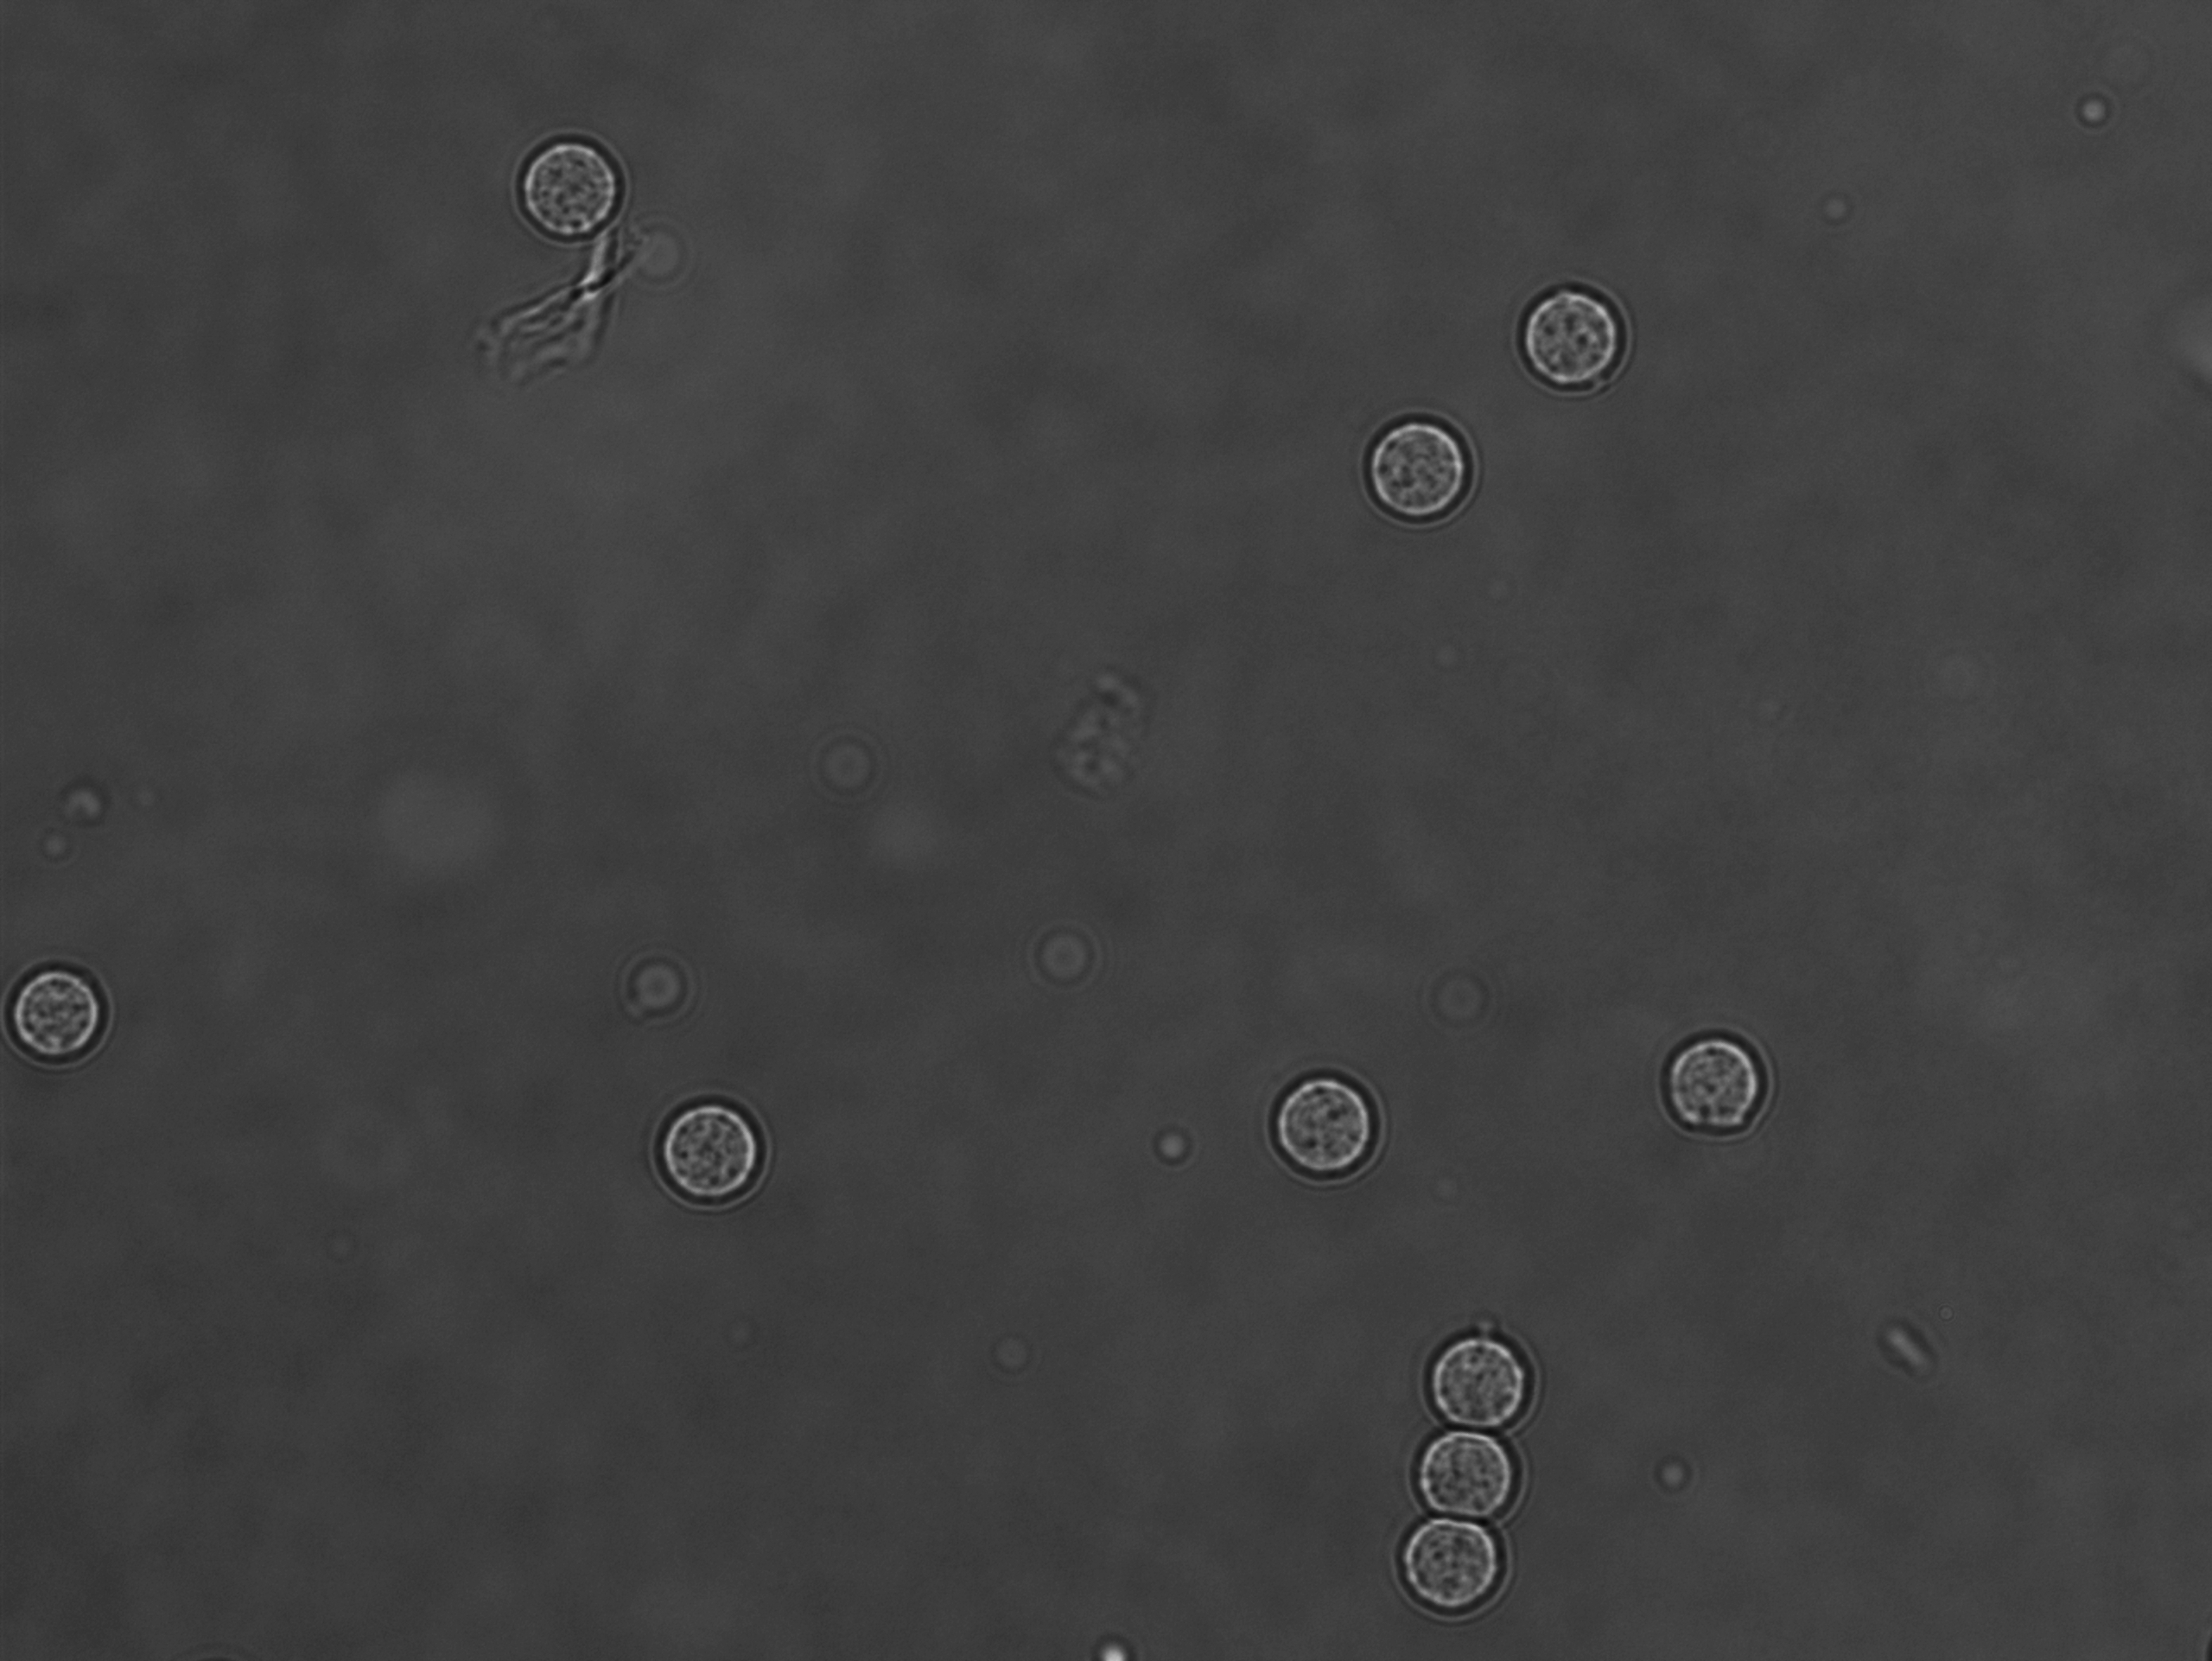depth:0: (1500, 255, 1659, 426), (1333, 398, 1504, 546), (635, 1083, 792, 1228), (1642, 1007, 1774, 1155), (1415, 1309, 1556, 1445), (1256, 1059, 1399, 1192), (1380, 1504, 1525, 1628), (508, 131, 640, 265), (1399, 1413, 1526, 1532)
